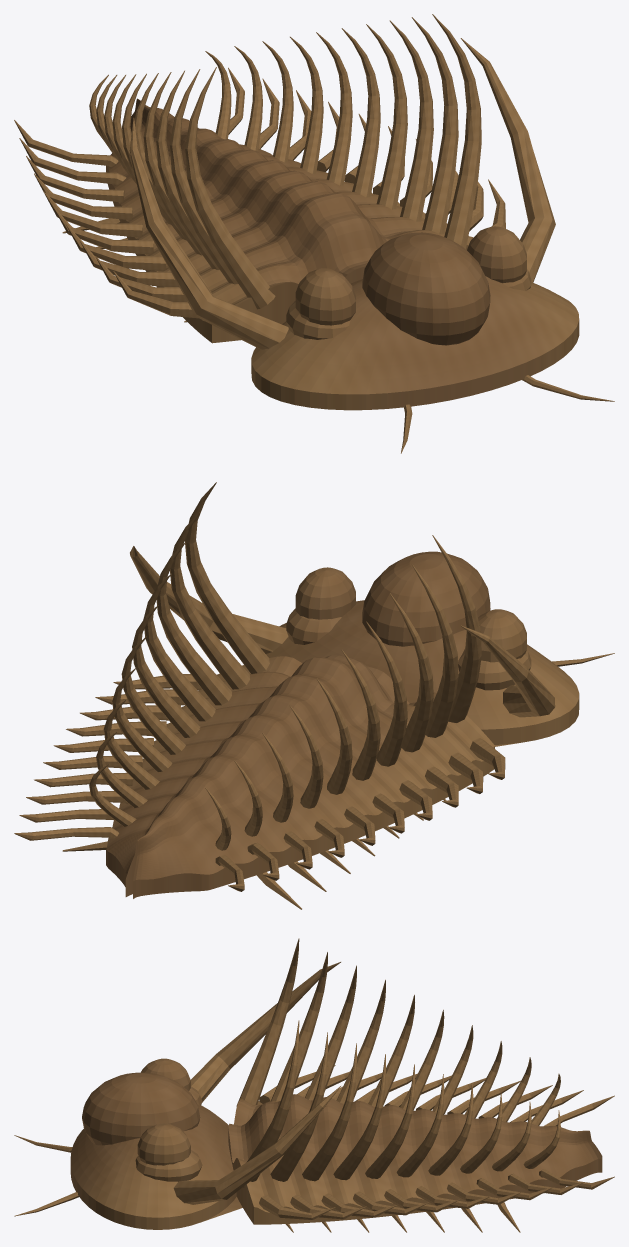
3 renders of one model, top to bottom at view 1: azimuth 30°, elevation 25°; view 2: azimuth 150°, elevation 25°; view 3: azimuth 270°, elevation 25°, orthographic. The views are drawn at different scales.
Parts seen in each view (by area): view 1: Vaulted eleven segment axis and swept pleural shield, Broad rounded cephalon, Bulbous anterior glabella, Long genal curve -1, Long genal curve 1, Curved rooted dorsopleural spine -1 00, Curved rooted dorsopleural spine 1 00, Curved rooted dorsopleural spine 1 01, Curved rooted dorsopleural spine 1 02, Faceted lateral eye -1, Curved rooted dorsopleural spine 1 03, Faceted lateral eye 1 (+23 smaller); view 2: Vaulted eleven segment axis and swept pleural shield, Broad rounded cephalon, Bulbous anterior glabella, Curved rooted dorsopleural spine 1 00, Curved rooted dorsopleural spine 1 01, Long genal curve -1, Faceted lateral eye 1, Curved rooted dorsopleural spine 1 02, Curved rooted dorsopleural spine -1 00, Long genal curve 1, Curved rooted dorsopleural spine -1 01, Curved rooted dorsopleural spine 1 03 (+29 smaller); view 3: Vaulted eleven segment axis and swept pleural shield, Broad rounded cephalon, Bulbous anterior glabella, Long genal curve 1, Long genal curve -1, Curved rooted dorsopleural spine -1 00, Faceted lateral eye 1, Curved rooted dorsopleural spine -1 01, Curved rooted dorsopleural spine 1 02, Curved rooted dorsopleural spine 1 01, Curved rooted dorsopleural spine 1 00, Curved rooted dorsopleural spine -1 02 (+27 smaller).
Part boxes in pixels (bbox=[...]): Vaulted eleven segment axis and swept pleural shield: bbox=[106, 98, 473, 343]; Broad rounded cephalon: bbox=[251, 276, 579, 410]; Bulbous anterior glabella: bbox=[362, 232, 490, 345]; Long genal curve -1: bbox=[129, 117, 288, 349]; Long genal curve 1: bbox=[460, 38, 555, 282]; Curved rooted dorsopleural spine -1 00: bbox=[185, 67, 275, 309]; Curved rooted dorsopleural spine 1 00: bbox=[432, 14, 481, 249]; Curved rooted dorsopleural spine 1 01: bbox=[411, 17, 458, 234]; Curved rooted dorsopleural spine 1 02: bbox=[389, 20, 433, 221]; Faceted lateral eye -1: bbox=[295, 268, 355, 325]; Curved rooted dorsopleural spine 1 03: bbox=[366, 24, 407, 209]; Faceted lateral eye 1: bbox=[467, 226, 526, 283]; Vaulted eleven segment axis and swept pleural shield: bbox=[106, 655, 494, 898]; Broad rounded cephalon: bbox=[266, 600, 579, 746]; Bulbous anterior glabella: bbox=[362, 551, 490, 646]; Curved rooted dorsopleural spine 1 00: bbox=[185, 482, 269, 673]; Curved rooted dorsopleural spine 1 01: bbox=[170, 512, 249, 689]; Long genal curve -1: bbox=[461, 625, 555, 717]; Faceted lateral eye 1: bbox=[295, 567, 355, 619]; Curved rooted dorsopleural spine 1 02: bbox=[156, 543, 231, 705]; Curved rooted dorsopleural spine -1 00: bbox=[432, 535, 481, 722]; Long genal curve 1: bbox=[130, 546, 288, 653]; Curved rooted dorsopleural spine -1 01: bbox=[412, 564, 458, 737]; Curved rooted dorsopleural spine 1 03: bbox=[143, 574, 215, 721]; Vaulted eleven segment axis and swept pleural shield: bbox=[228, 1094, 602, 1224]; Broad rounded cephalon: bbox=[70, 1104, 242, 1229]; Bulbous anterior glabella: bbox=[82, 1072, 200, 1145]; Long genal curve 1: bbox=[173, 1086, 340, 1204]; Long genal curve -1: bbox=[191, 962, 340, 1102]; Curved rooted dorsopleural spine -1 00: bbox=[236, 938, 299, 1106]; Faceted lateral eye 1: bbox=[137, 1123, 190, 1165]; Curved rooted dorsopleural spine -1 01: bbox=[271, 952, 327, 1101]; Curved rooted dorsopleural spine 1 02: bbox=[302, 1043, 356, 1181]; Curved rooted dorsopleural spine 1 01: bbox=[270, 1032, 327, 1181]; Curved rooted dorsopleural spine 1 00: bbox=[243, 1020, 299, 1187]; Curved rooted dorsopleural spine -1 02: bbox=[305, 965, 356, 1100].
Bounding box in the file's own units: 0.6054 × 0.4071 × 1.07.
Materials: 1 (1 with a texture image).
